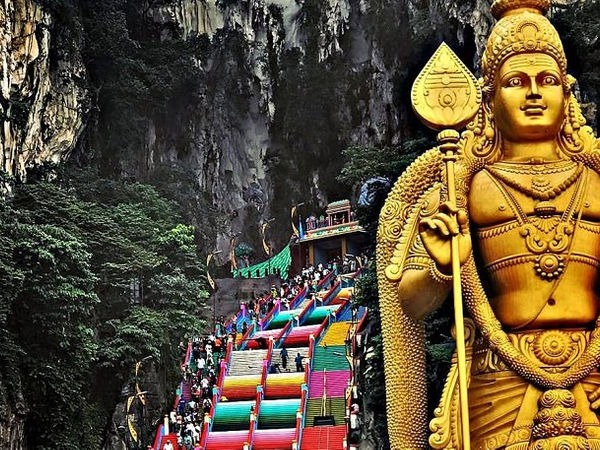Hindu Temple: (378, 3, 600, 449)
